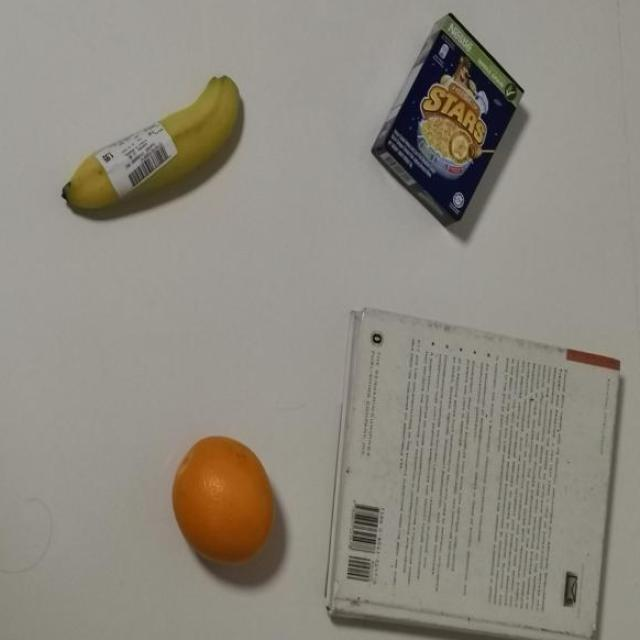Banana: (54, 73, 258, 212)
Book: (327, 288, 622, 640)
Cerealbox: (371, 15, 529, 235)
Orange: (165, 426, 284, 570)
